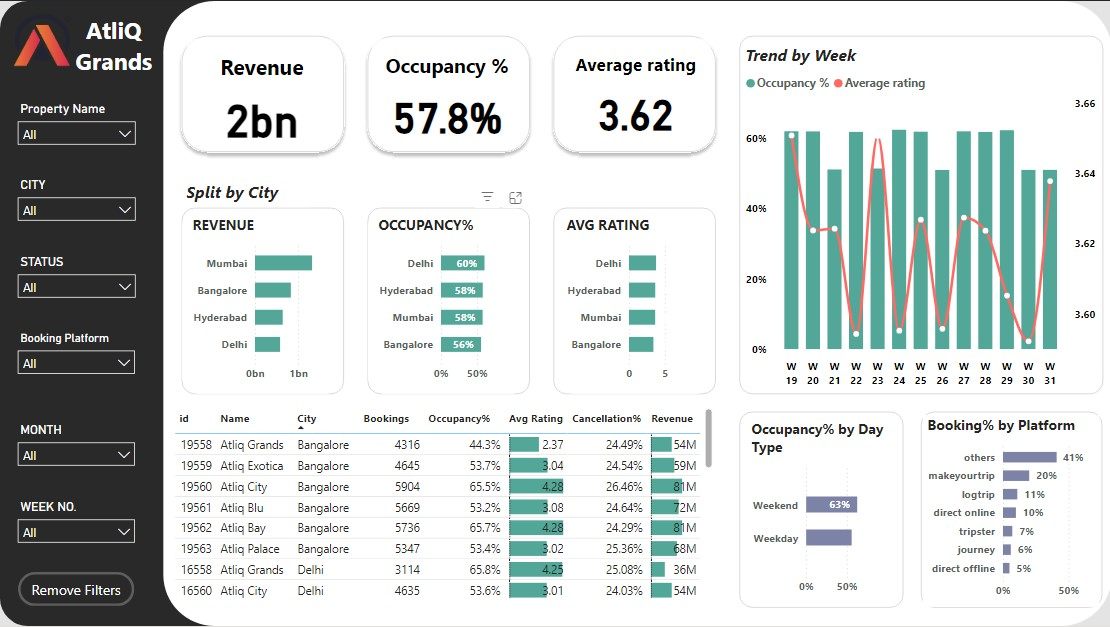

Layout of this report page (visuals, bound fields, positions):
{"tool":"powerbi","page":{"name":"Page 1","canvas":[1280,720],"ordinal":0},"visuals":[{"type":"slicer","fields":{"Values":["dim_hotels.property_name"]},"box":[10.1,110.1,156,72],"z":0},{"type":"slicer","fields":{"Values":["dim_hotels.city"]},"box":[10.1,198.7,156,72],"z":1000},{"type":"slicer","fields":{"Values":["fact_bookings.booking_status"]},"box":[10.1,287.3,156,72],"z":2000},{"type":"slicer","fields":{"Values":["fact_bookings.booking_platform"]},"box":[10.6,375.9,155,88],"z":3000},{"type":"slicer","fields":{"Values":["dim_date.mmm yy"]},"box":[10.6,480.5,155,72.3],"z":4000},{"type":"slicer","fields":{"Values":["dim_date.week no"]},"box":[10.6,569.4,155,72.3],"z":5000},{"type":"cardVisual","fields":{"Data":["Key measures.Revenue"]},"box":[210,38.5,184.8,134.2],"z":6000},{"type":"cardVisual","fields":{"Data":["Key measures.Occupancy %"]},"box":[422.7,38.5,184.8,134.2],"z":7000},{"type":"cardVisual","fields":{"Data":["Key measures.Average rating"]},"box":[640.7,38.5,184.8,134.2],"z":8000},{"type":"barChart","title":"REVENUE","fields":{"Y":["Key measures.Revenue"],"Category":["dim_hotels.city"]},"box":[210,239.3,184.8,212.7],"z":9000},{"type":"barChart","title":"OCCUPANCY%","fields":{"Category":["dim_hotels.city"],"Y":["Key measures.Occupancy %"]},"box":[424,239.3,184.8,212.7],"z":10000},{"type":"barChart","title":"AVG RATING","fields":{"Y":["Key measures.Average rating"],"Category":["dim_hotels.city"]},"box":[640.7,239.3,180.8,212.7],"z":11000},{"type":"tableEx","fields":{"Values":["dim_hotels.property_id","dim_hotels.property_name","dim_hotels.city","Key measures.Total bookings","Key measures.Occupancy %","Key measures.Average rating","Key measures.Cancellation %","Key measures.Revenue"]},"box":[195.4,463.9,630,228.6],"z":12000},{"type":"lineClusteredColumnComboChart","title":"Trend by Week","fields":{"Category":["dim_date.week no"],"Y2":["Key measures.Average rating"],"Y":["Key measures.Occupancy %"]},"box":[853.3,49.2,413.4,402.7],"z":13000},{"type":"barChart","title":"Occupancy% by Day Type","fields":{"Category":["dim_date.day_type"],"Y":["Key measures.Occupancy %"]},"box":[853.3,474.5,184.8,223.3],"z":14000},{"type":"barChart","title":"Booking% by Platform","fields":{"Y":["Key measures.Booking % by platform"],"Category":["fact_bookings.booking_platform"]},"box":[1063.3,477.2,203.4,220.6],"z":15000},{"type":"textbox","box":[210,202,144.9,35.9],"z":16000},{"type":"image","box":[10.5,9.2,77.5,70.9],"z":17000},{"type":"textbox","box":[70.9,9.2,119.6,95.9],"z":18000},{"type":"actionButton","title":"Remove Filters","box":[21,658.2,134,39.4],"z":19000}]}

Visuals, with their boxes in screenshot pixels (x1, y1, x2, y2), scaled from the page's 1280x720 canvas onto the 1110x627 screenshot:
slicer - dim_hotels.property_name: bbox=(9, 96, 144, 159)
slicer - dim_hotels.city: bbox=(9, 173, 144, 236)
slicer - fact_bookings.booking_status: bbox=(9, 250, 144, 313)
slicer - fact_bookings.booking_platform: bbox=(9, 327, 144, 404)
slicer - dim_date.mmm yy: bbox=(9, 418, 144, 481)
slicer - dim_date.week no: bbox=(9, 496, 144, 559)
cardVisual - Key measures.Revenue: bbox=(182, 34, 342, 150)
cardVisual - Key measures.Occupancy %: bbox=(367, 34, 527, 150)
cardVisual - Key measures.Average rating: bbox=(556, 34, 716, 150)
"REVENUE" barChart: bbox=(182, 208, 342, 394)
"OCCUPANCY%" barChart: bbox=(368, 208, 528, 394)
"AVG RATING" barChart: bbox=(556, 208, 712, 394)
tableEx - dim_hotels.property_id x dim_hotels.property_name: bbox=(169, 404, 716, 603)
"Trend by Week" lineClusteredColumnComboChart: bbox=(740, 43, 1098, 394)
"Occupancy% by Day Type" barChart: bbox=(740, 413, 900, 608)
"Booking% by Platform" barChart: bbox=(922, 416, 1098, 608)
textbox: bbox=(182, 176, 308, 207)
image: bbox=(9, 8, 76, 70)
textbox: bbox=(61, 8, 165, 92)
"Remove Filters" actionButton: bbox=(18, 573, 134, 607)
